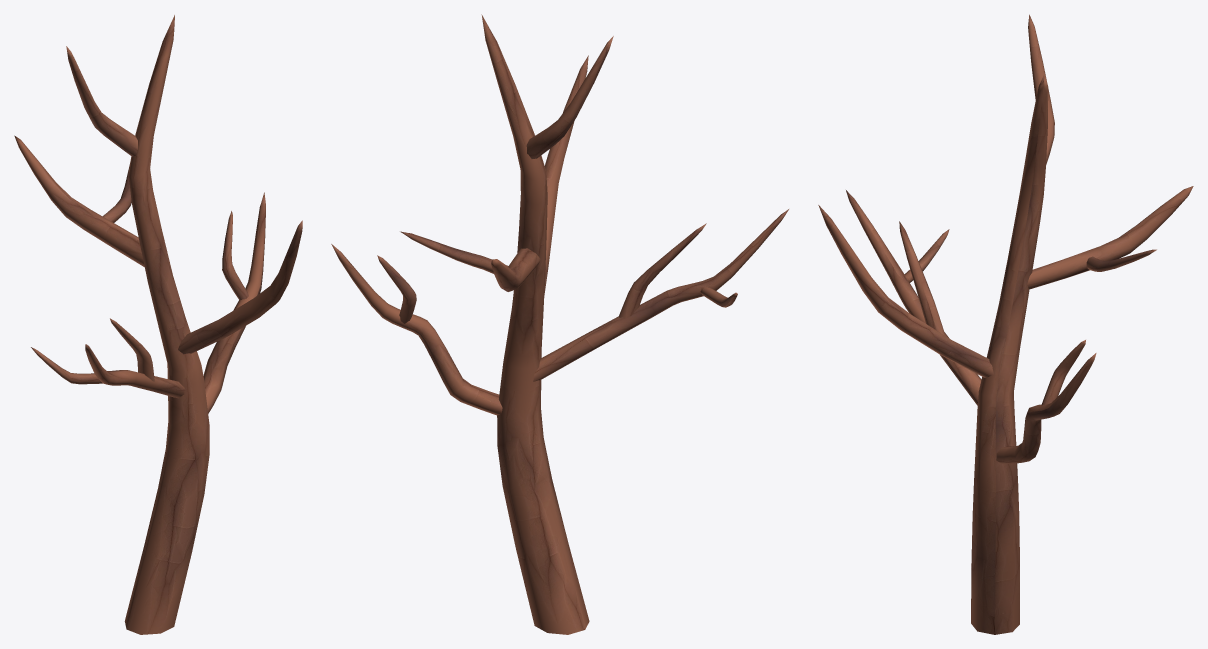
File: DeadTree_5.glb
3 renders of one model, left to right at view 1: azimuth 30°, elevation 25°; view 2: azimuth 150°, elevation 25°; view 3: azimuth 270°, elevation 25°, orthographic. The views are drawn at different scales.
Bounding box in the file's own units: 1.44 × 2.6 × 1.53.
1 material, 1 textured.
